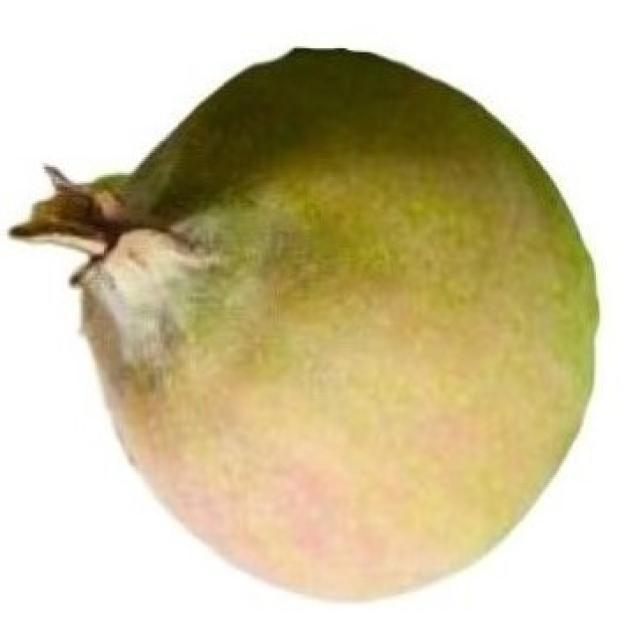50-_ripeness: (37, 43, 604, 608)
